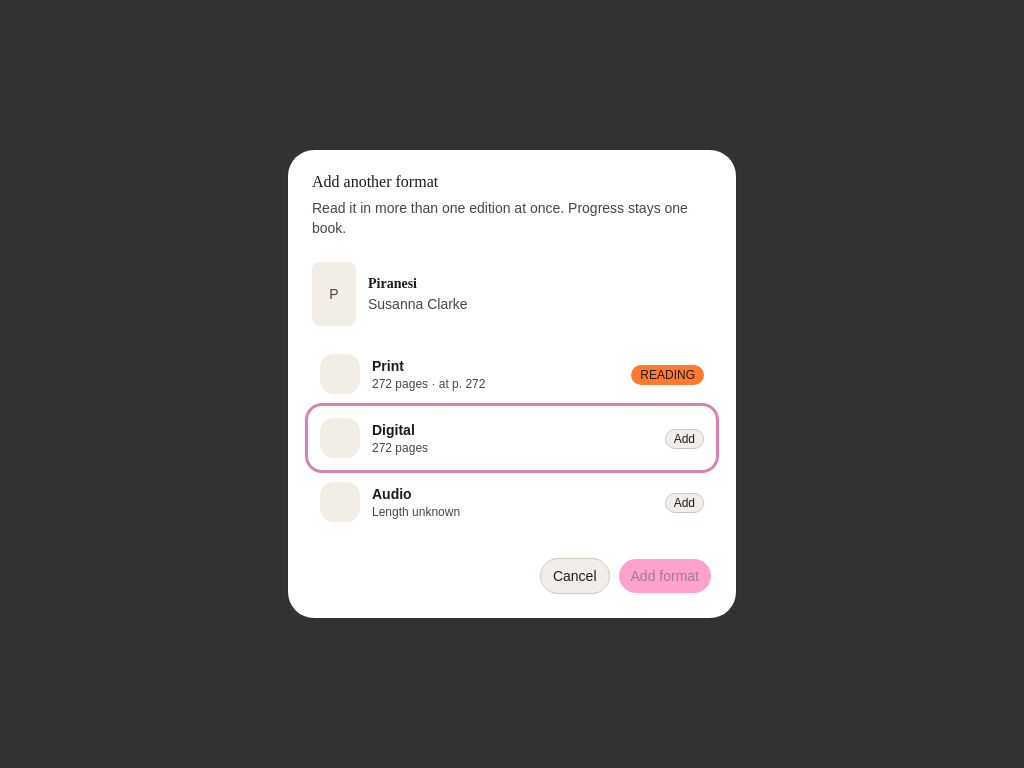
Test case: AddFormatSheet › rejects a length that is not a number of pages
Click the button "Digital 272 pages Add".
click(340, 438)  # box x1=308 y1=406 x2=716 y2=470
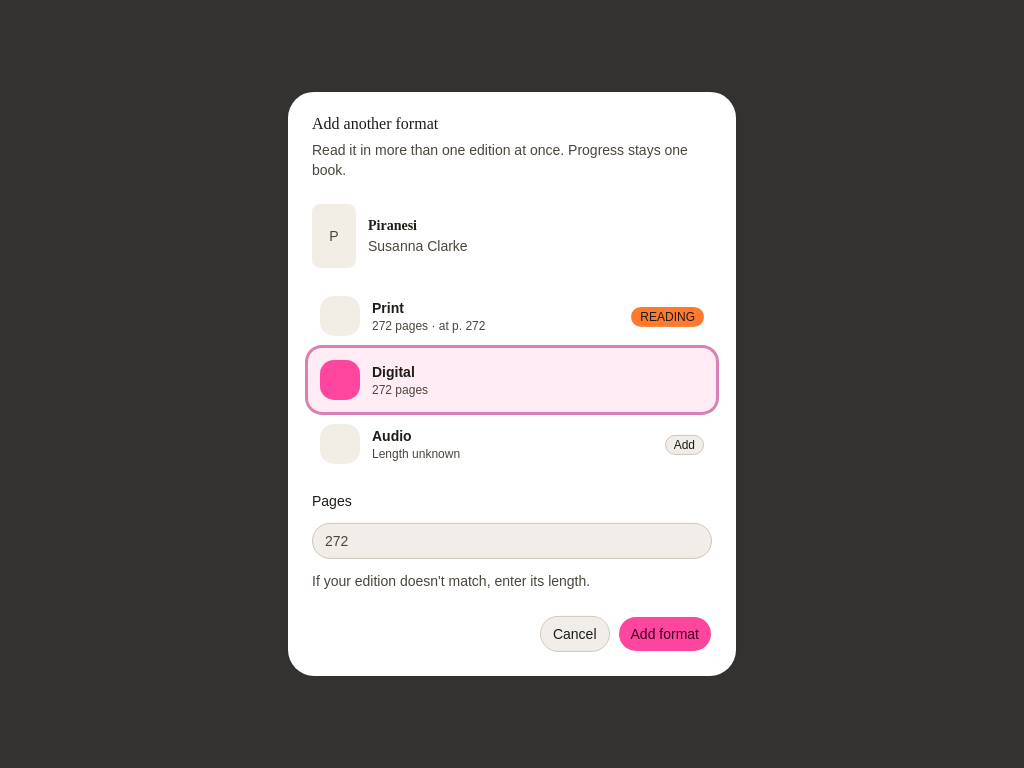
Type "abc" into the field labelled "Pages".
click(512, 541); type("abc")  # box x1=312 y1=523 x2=712 y2=559
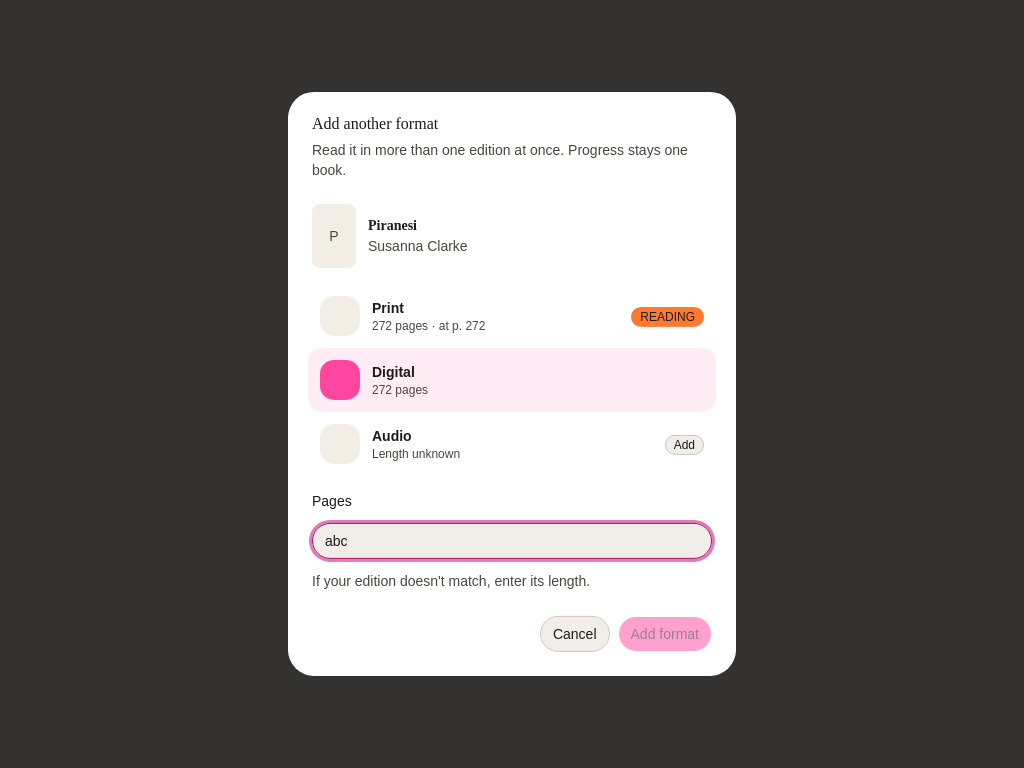
Press Tab
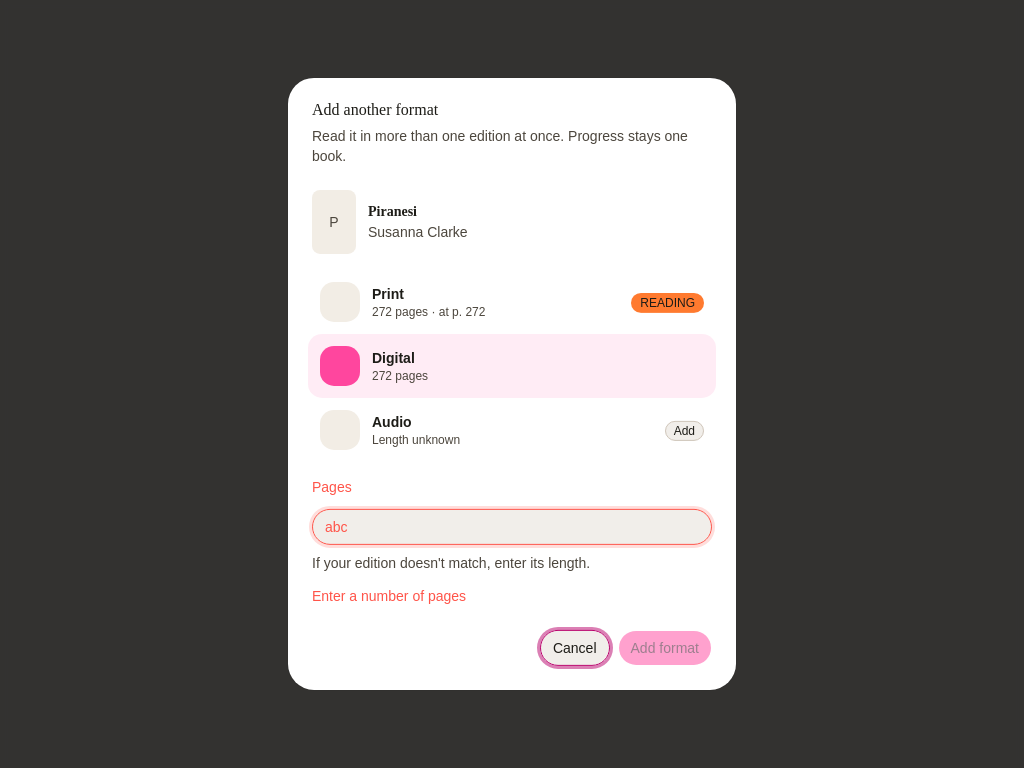
Expected: the button "Add format" is disabled, x1=618 y1=630 x2=712 y2=666
Expected: the text "Enter a number of pages" is shown, x1=312 y1=588 x2=466 y2=604
